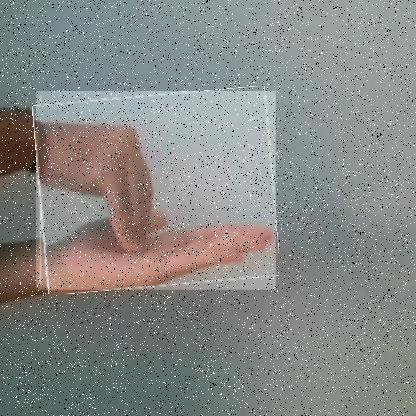Z: (36, 91, 277, 291)
